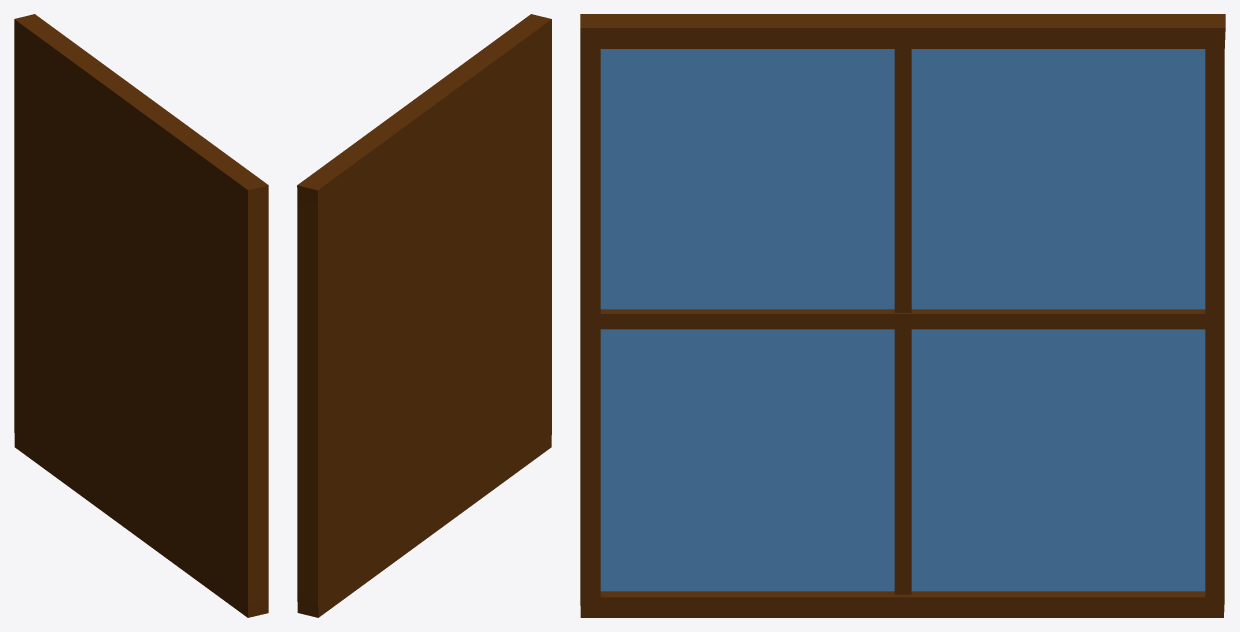
The model's file is window_short.dae.
3 views of the same model, side by side, from view 1: azimuth 30°, elevation 25°; view 2: azimuth 150°, elevation 25°; view 3: azimuth 270°, elevation 25° (orthographic). The views are drawn at different scales.
Visible parts, largest first — view 1: Cube; view 2: Cube; view 3: Cube.
Boxes of the visible parts, left/top/right/bottom form: Cube: left=14, top=14, right=268, bottom=617; Cube: left=297, top=14, right=551, bottom=617; Cube: left=580, top=14, right=1225, bottom=617.
Size of the model in its own units: 0.1088 by 2.13 by 2.15.
